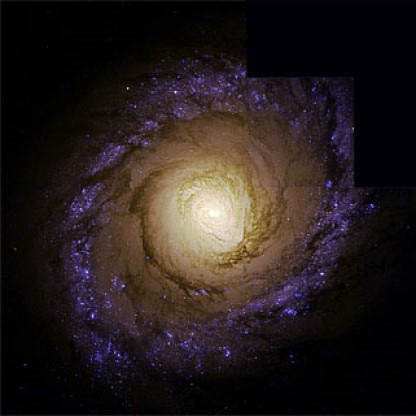Messier 94: (33, 49, 379, 397)
